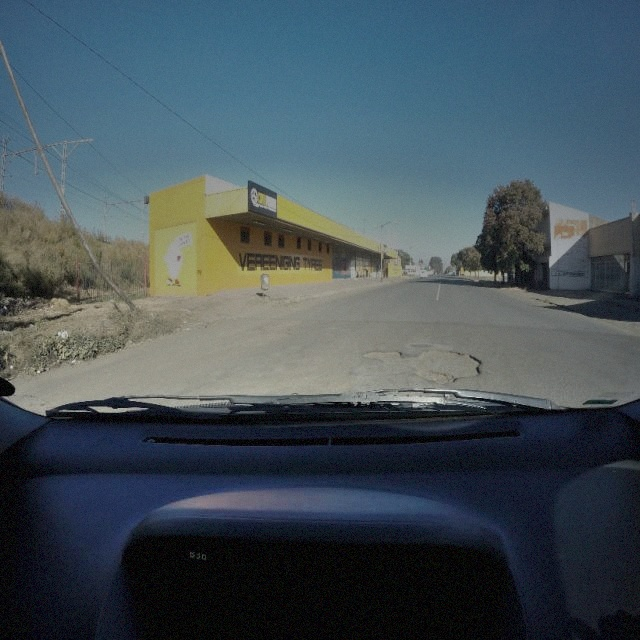pothole: (364, 342, 483, 385)
